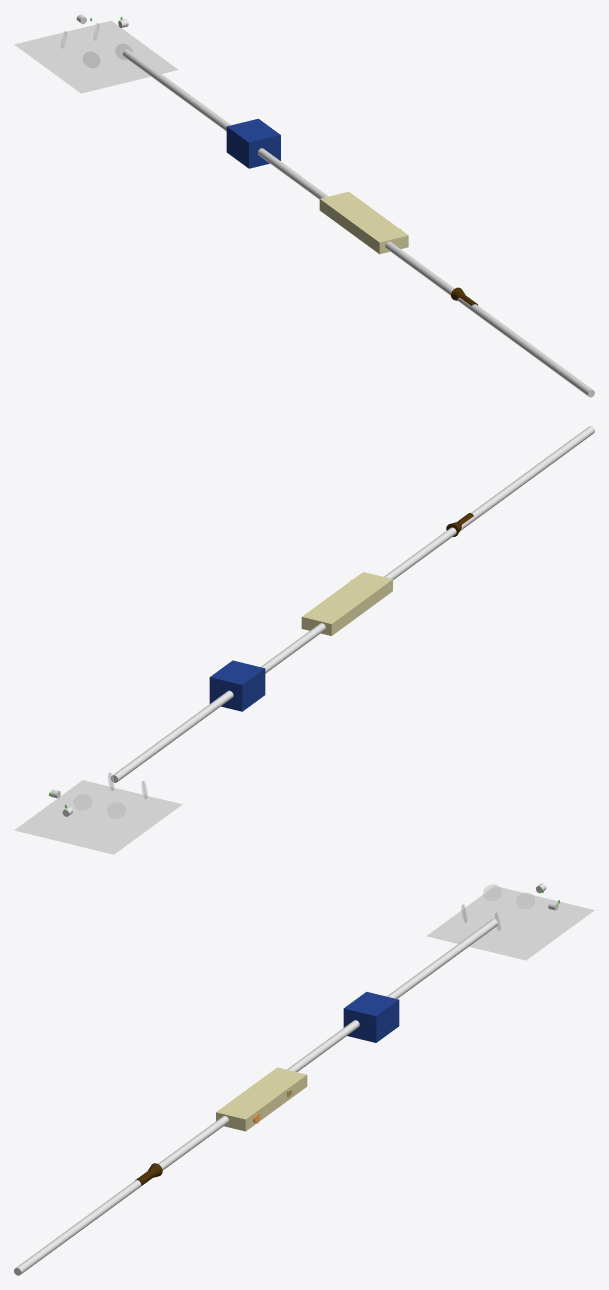
File: sim2.glb
The picture shows the model from 3 angles, top to bottom: view 1: azimuth 30°, elevation 25°; view 2: azimuth 150°, elevation 25°; view 3: azimuth 330°, elevation 25°; orthographic projection. The views are drawn at different scales.
Parts seen in each view (by area): view 1: mziFloor, tunnel, phaseModulator, attenutor; view 2: mziFloor, tunnel, phaseModulator, attenutor; view 3: mziFloor, tunnel, phaseModulator, attenutor.
Part boxes in pixels (x1,y1,x2,y2): mziFloor: (14, 20, 178, 93); tunnel: (123, 49, 594, 397); phaseModulator: (319, 191, 408, 254); attenutor: (226, 118, 280, 168); mziFloor: (14, 780, 182, 854); tunnel: (111, 426, 594, 782); phaseModulator: (301, 572, 392, 635); attenutor: (209, 660, 265, 711); mziFloor: (426, 886, 594, 960); tunnel: (14, 919, 497, 1275); phaseModulator: (216, 1067, 307, 1131); attenutor: (343, 991, 399, 1042).
Bounding box in the file's own units: 4.9 × 1.5 × 45.45.
